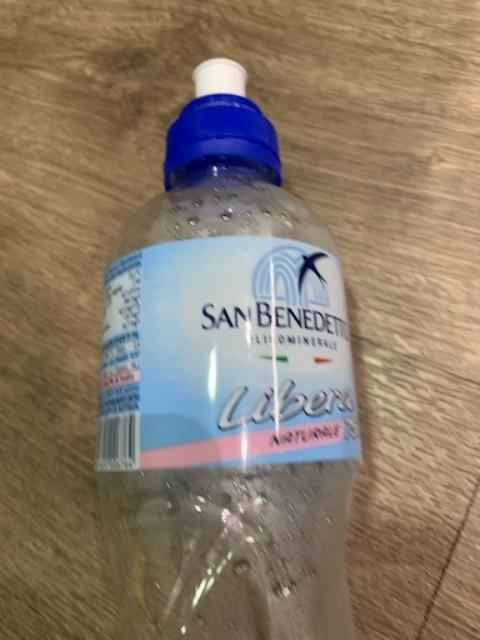plastic: (95, 58, 359, 638)
